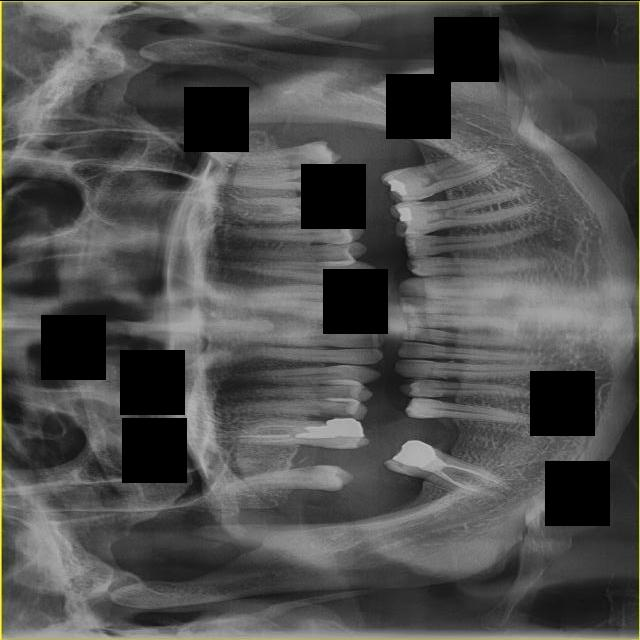74: (420, 451, 500, 500), (237, 432, 289, 441), (251, 422, 301, 429), (250, 436, 297, 443)
NucleOSS Implant: (390, 434, 439, 470), (294, 417, 364, 440), (385, 175, 411, 197), (398, 206, 412, 221)
Sterngold Implant: (321, 402, 357, 420), (320, 221, 345, 233), (406, 199, 437, 207), (291, 465, 319, 473)
